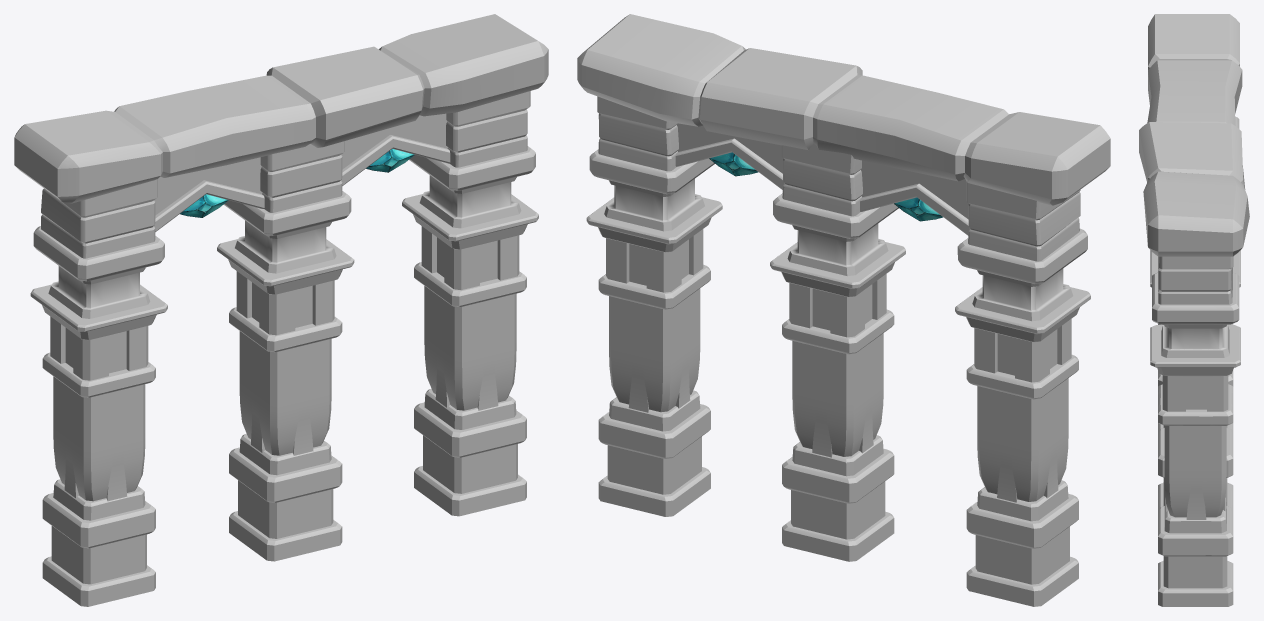
File: Moonset_FBX_colonnade_1.fbx
The picture shows the model from 3 angles, left to right: view 1: azimuth 30°, elevation 25°; view 2: azimuth 150°, elevation 25°; view 3: azimuth 270°, elevation 25°; orthographic projection. The views are drawn at different scales.
Parts seen in each view (by area): view 1: Colonade_01; view 2: Colonade_01; view 3: Colonade_01.
Boxes of the visible parts, <box> form: Colonade_01: <box>14,14,548,606</box>; Colonade_01: <box>577,14,1110,606</box>; Colonade_01: <box>1139,14,1249,606</box>.
Size of the model in its own units: 10.58 by 9.4 by 2.38.
